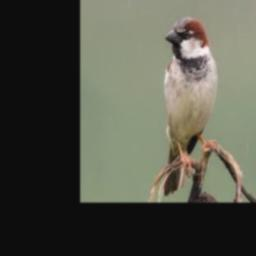Sparrow: (163, 16, 219, 195)
